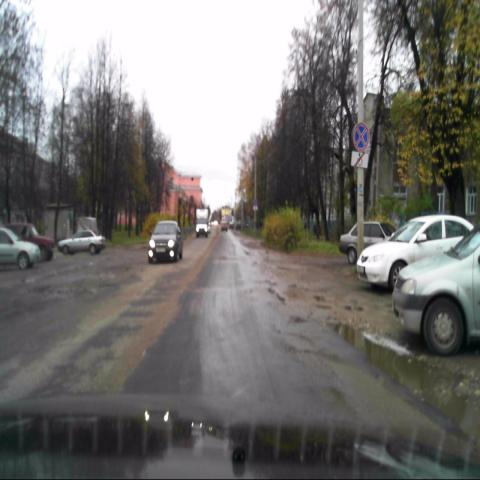8_18: (350, 150, 369, 168)
